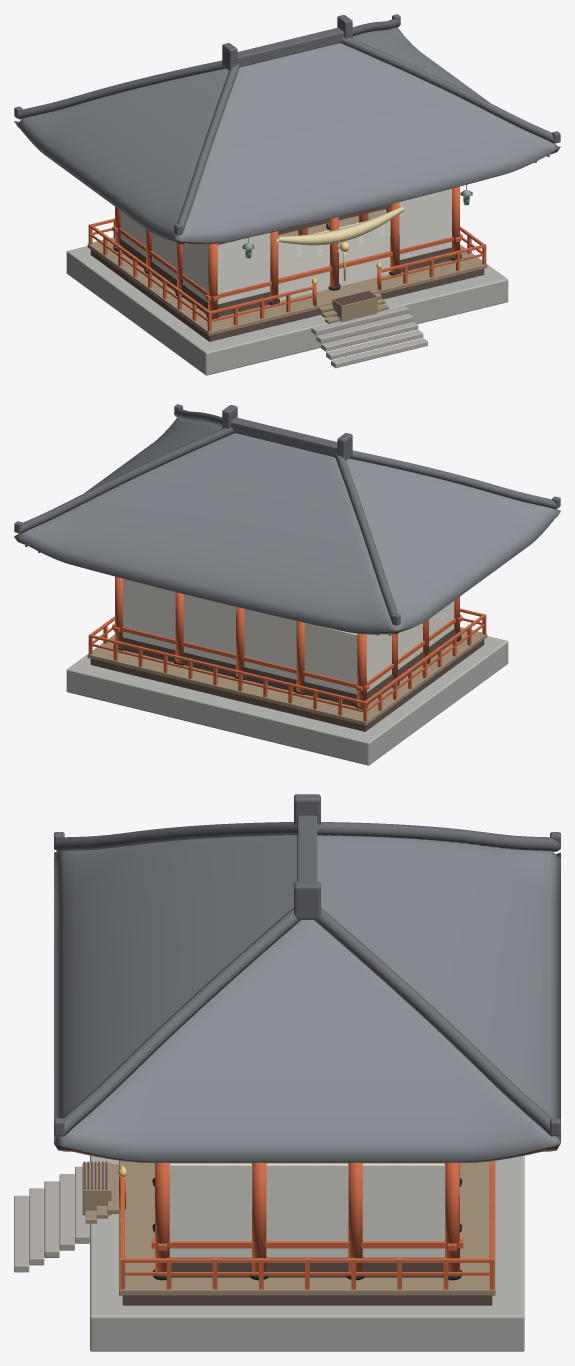
Rendered from hall.glb.
The picture shows the model from 3 angles, top to bottom: view 1: azimuth 30°, elevation 25°; view 2: azimuth 150°, elevation 25°; view 3: azimuth 270°, elevation 25°; orthographic projection. The views are drawn at different scales.
Visible parts, largest first — view 1: hall; view 2: hall; view 3: hall.
Part boxes in pixels (x1,y1,x2,y2): hall: (14, 14, 560, 375); hall: (14, 404, 560, 765); hall: (14, 794, 560, 1351).
Size of what is drawn, in the model's own units: 19 by 12.11 by 15.1.
